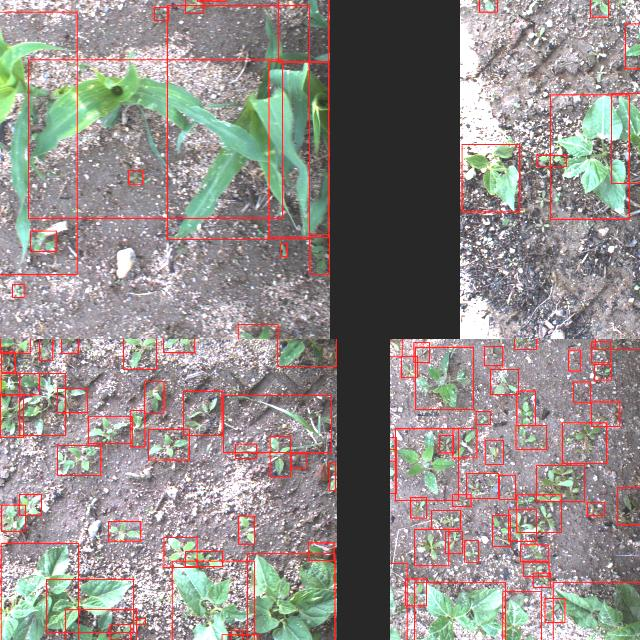crop: (28, 59, 282, 217), (167, 5, 309, 239), (0, 11, 76, 274), (269, 61, 329, 237), (550, 94, 628, 218), (247, 553, 335, 640), (0, 542, 78, 640), (171, 559, 253, 640), (413, 581, 504, 640), (552, 581, 640, 640), (45, 578, 133, 632), (461, 144, 519, 210), (277, 0, 328, 61), (610, 93, 640, 183), (64, 608, 135, 640), (501, 590, 540, 640), (277, 339, 336, 366)
weed: (223, 394, 331, 452), (394, 428, 458, 499), (414, 347, 472, 409), (19, 373, 65, 435), (182, 390, 222, 436), (562, 422, 606, 462), (516, 494, 562, 532), (536, 465, 584, 501), (56, 445, 100, 475), (414, 528, 448, 566), (148, 428, 188, 459), (87, 416, 131, 442), (164, 537, 196, 567), (122, 339, 155, 368), (0, 393, 22, 436), (617, 486, 640, 523), (508, 510, 536, 540), (0, 372, 38, 394), (466, 472, 498, 498), (309, 234, 329, 274), (270, 436, 290, 476), (590, 400, 620, 426), (490, 368, 518, 394), (624, 23, 640, 68), (56, 388, 86, 412), (452, 427, 476, 457), (516, 425, 546, 449), (1, 504, 25, 532), (238, 323, 278, 339), (144, 381, 164, 413), (108, 520, 140, 540), (404, 578, 426, 606), (516, 390, 534, 424), (184, 550, 222, 566), (492, 514, 510, 546), (29, 230, 55, 252), (430, 509, 460, 528), (484, 438, 504, 464), (130, 410, 144, 446), (544, 598, 564, 622), (308, 542, 334, 560), (498, 474, 516, 500), (238, 515, 254, 543), (520, 544, 548, 560), (18, 494, 40, 514), (162, 339, 194, 352), (444, 531, 462, 553), (483, 345, 502, 365), (0, 339, 29, 352), (523, 562, 549, 576), (536, 154, 566, 166), (400, 356, 418, 376), (592, 342, 610, 362), (572, 382, 590, 402), (234, 442, 256, 458), (410, 497, 426, 518), (110, 624, 130, 640), (413, 342, 429, 362), (464, 539, 478, 561), (590, 0, 608, 16), (0, 351, 14, 371), (38, 339, 51, 360), (594, 363, 610, 379), (439, 434, 453, 452), (532, 572, 550, 586), (586, 501, 604, 515), (568, 350, 580, 370), (60, 339, 77, 353), (184, 0, 203, 12), (452, 494, 471, 506), (292, 452, 306, 468), (474, 411, 490, 424), (478, 0, 496, 11), (514, 339, 536, 348), (128, 169, 142, 183), (153, 6, 167, 20), (390, 339, 401, 356), (329, 462, 335, 490), (11, 284, 23, 296), (230, 629, 241, 640), (390, 437, 395, 461), (280, 242, 286, 255), (135, 618, 145, 624)
